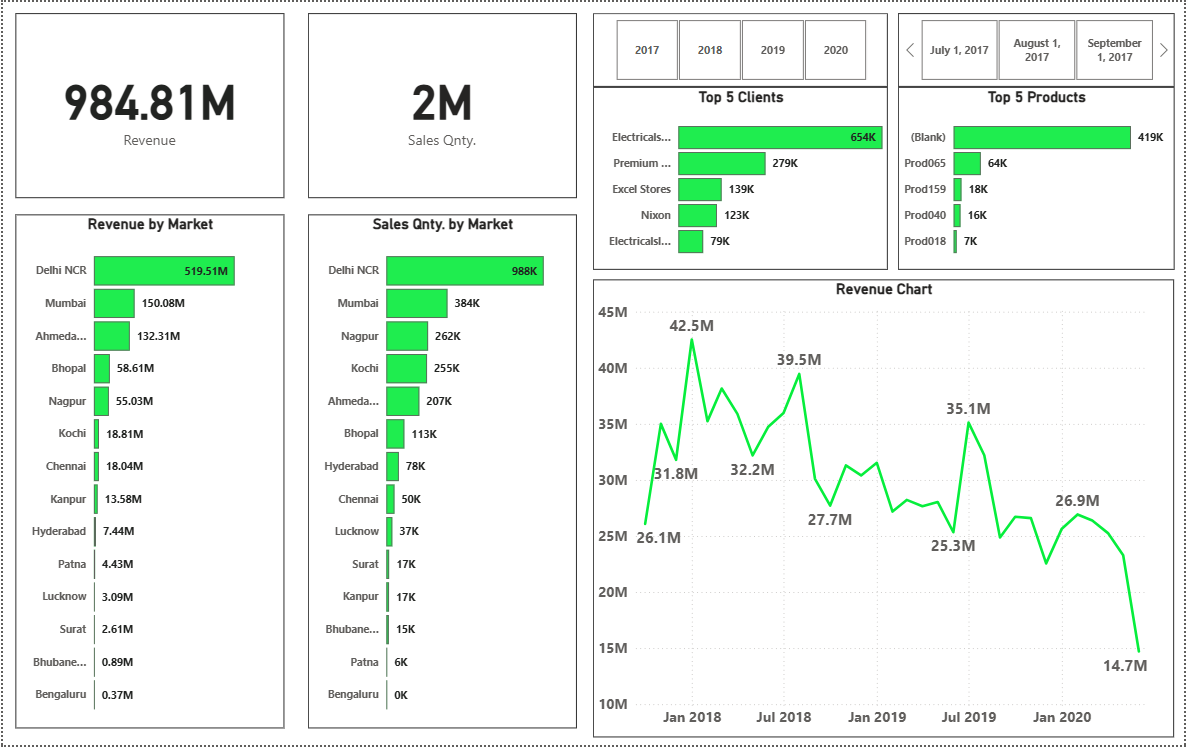

This screenshot's page, from the dashboard's own definition file:
{"tool":"powerbi","page":{"name":"Page 1","canvas":[1350,850],"ordinal":0},"visuals":[{"type":"card","fields":{"Values":["BaseMeasure.Revenue"]},"box":[14.3,12.9,307.1,211.4],"z":0},{"type":"card","fields":{"Values":["BaseMeasure.Sales Qnty."]},"box":[348.6,12.9,307.1,211.4],"z":1000},{"type":"barChart","title":"Revenue by Market","fields":{"Y":["BaseMeasure.Revenue"],"Category":["sales markets.markets_name"]},"box":[14.3,242.9,307.1,587.1],"z":2000},{"type":"barChart","title":"Sales Qnty. by Market","fields":{"Y":["BaseMeasure.Sales Qnty."],"Category":["sales markets.markets_name"]},"box":[348.6,242.9,307.1,587.1],"z":3000},{"type":"slicer","fields":{"Values":["sales date.year"]},"box":[674.3,12.9,337.1,84.3],"z":4000},{"type":"slicer","fields":{"Values":["sales date.cy_date"]},"box":[1022.9,12.9,315.7,84.3],"z":5000},{"type":"barChart","title":"Top 5 Clients","fields":{"Y":["BaseMeasure.Sales Qnty."],"Category":["sales customers.custmer_name"]},"box":[674.3,97.1,337.1,208.6],"z":6000},{"type":"barChart","title":"Top 5 Products","fields":{"Y":["BaseMeasure.Sales Qnty."],"Category":["sales products.product_code"]},"box":[1022.9,97.1,315.7,208.6],"z":7000},{"type":"lineChart","title":"Revenue Chart","fields":{"Y":["BaseMeasure.Revenue"],"Category":["sales date.cy_date.Variation.Date Hierarchy.Year","sales date.cy_date.Variation.Date Hierarchy.Quarter","sales date.cy_date.Variation.Date Hierarchy.Month","sales date.cy_date.Variation.Date Hierarchy.Day"]},"box":[674.3,317.1,664.3,522.9],"z":8000}]}

Visuals, with their boxes in screenshot pixels (x1, y1, x2, y2), scaled from the page's 1350x850 canvas onto the 1188x747 screenshot:
card - BaseMeasure.Revenue: 13:11:283:197
card - BaseMeasure.Sales Qnty.: 307:11:577:197
"Revenue by Market" barChart: 13:213:283:729
"Sales Qnty. by Market" barChart: 307:213:577:729
slicer - sales date.year: 593:11:890:85
slicer - sales date.cy_date: 900:11:1178:85
"Top 5 Clients" barChart: 593:85:890:269
"Top 5 Products" barChart: 900:85:1178:269
"Revenue Chart" lineChart: 593:279:1178:738
